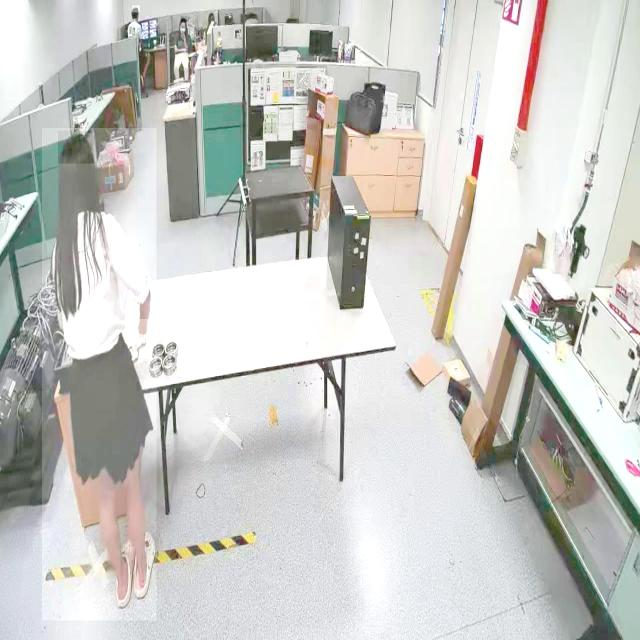face_mask: (178, 23, 186, 42)
hand_glove: (132, 319, 152, 358)
head_nohelmet: (58, 130, 94, 164), (132, 5, 140, 14), (180, 16, 188, 23)
person: (42, 128, 156, 621), (171, 15, 193, 86)
